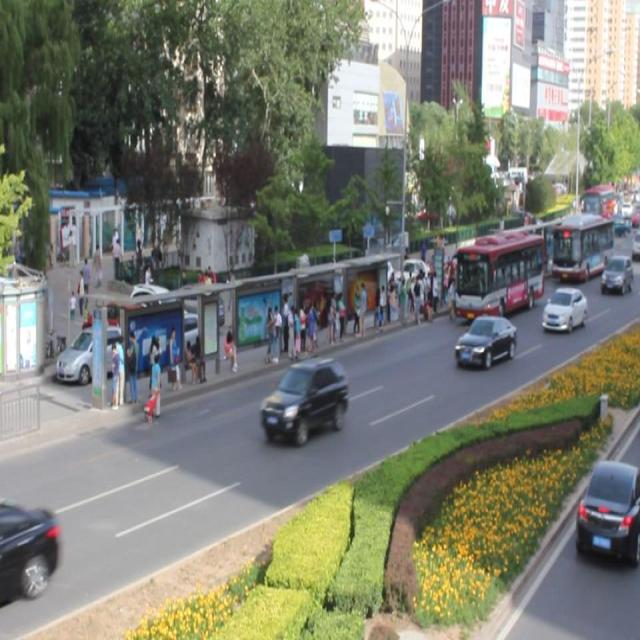car: (260, 358, 347, 442), (1, 500, 58, 605), (452, 314, 514, 369), (540, 284, 585, 334), (599, 256, 630, 294)
van: (447, 232, 538, 326)
